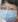with_mask: (1, 1, 18, 22)
